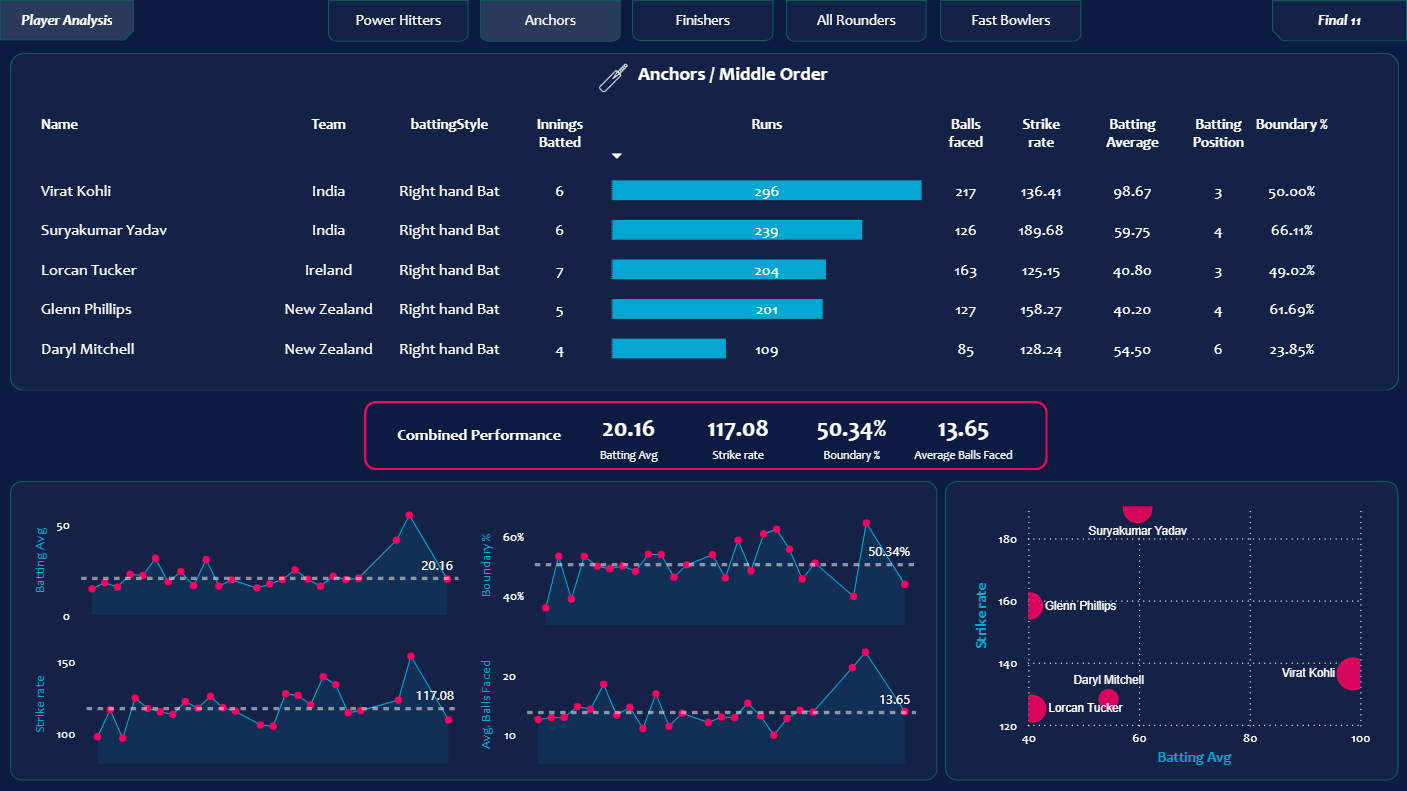

This screenshot's page, from the dashboard's own definition file:
{"tool":"powerbi","page":{"name":"Anchors / Middle Order","canvas":[1280,720],"ordinal":1},"visuals":[{"type":"tableEx","fields":{"Values":["dim_player.name","dim_player.team","dim_player.Batting Style","Key_Measures.Total Matches","Key_Measures.Total Runs","Key_Measures.Avergate Balls Faced","Key_Measures.Strike Rate","Key_Measures.Bat Avg","Key_Measures.Batting Position","Key_Measures.Boundary %"]},"box":[45.5,75.8,1074.2,186.4],"z":0},{"type":"scatterChart","fields":{"Category":["dim_player.name"],"X":["Key_Measures.Bat Avg"],"Series":["dim_player.name"],"Size":["Key_Measures.Total Runs"],"Y":["Key_Measures.Strike Rate"]},"box":[71,314.2,503.8,390],"z":1000},{"type":"slicer","fields":{"Values":["dim_match_summary.Stage"]},"box":[1119.7,125.8,156.1,86.4],"z":2000},{"type":"textbox","box":[37.9,16.5,325.8,29.2],"z":3000},{"type":"textbox","box":[71,285,325.8,29.2],"z":4000},{"type":"card","fields":{"Values":["Key_Measures.Bat Avg"]},"box":[677.9,328.8,202.3,129.4],"z":5000},{"type":"card","fields":{"Values":["Key_Measures.Strike Rate"]},"box":[932.8,328.8,186.7,129.4],"z":6000},{"type":"card","fields":{"Values":["Key_Measures.Avergate Balls Faced"]},"box":[786.9,492.2,186.7,149.8],"z":7000},{"type":"textbox","box":[677.9,299.6,325.8,29.2],"z":8000}]}

Visuals, with their boxes in screenshot pixels (x1, y1, x2, y2), scaled from the page's 1280x720 canvas onto the 1407x791 screenshot:
tableEx - dim_player.name x dim_player.team: select_region(50, 83, 1231, 288)
scatterChart - dim_player.name x Key_Measures.Bat Avg: select_region(78, 345, 632, 774)
slicer - dim_match_summary.Stage: select_region(1231, 138, 1402, 233)
textbox: select_region(42, 18, 400, 50)
textbox: select_region(78, 313, 436, 345)
card - Key_Measures.Bat Avg: select_region(745, 361, 968, 503)
card - Key_Measures.Strike Rate: select_region(1025, 361, 1231, 503)
card - Key_Measures.Avergate Balls Faced: select_region(865, 541, 1070, 705)
textbox: select_region(745, 329, 1103, 361)
